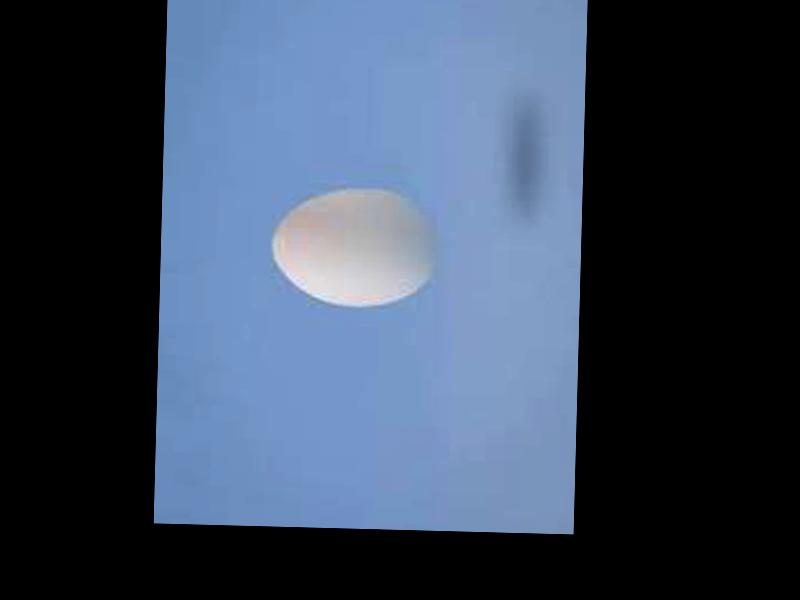Eggs: (270, 184, 440, 309)
